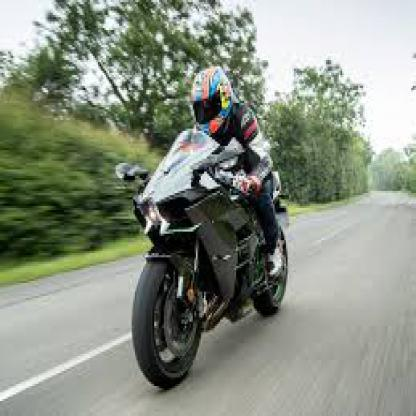Motorcycle: (104, 130, 294, 391)
